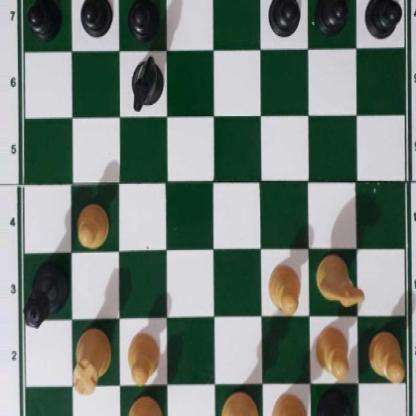black-bishop: (317, 388, 358, 416)
black-knight: (128, 57, 165, 112)
black-pawn: (364, 0, 400, 39), (27, 0, 61, 37), (127, 0, 158, 39), (268, 0, 300, 36), (79, 0, 110, 37), (316, 0, 347, 32)
black-queen: (24, 258, 68, 330)
white-bishop: (270, 393, 307, 416), (127, 393, 164, 416)
white-king: (220, 391, 258, 416)
white-knight: (313, 250, 366, 310)
white-pawn: (313, 322, 350, 379), (126, 328, 160, 384), (73, 199, 111, 249), (367, 330, 404, 380), (267, 261, 300, 314)
white-rook: (71, 323, 111, 395)
